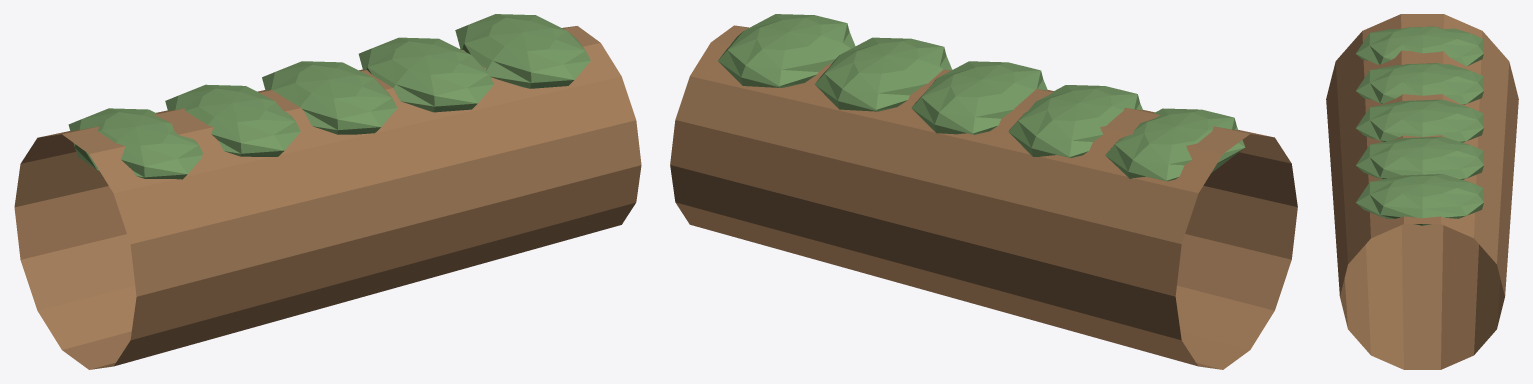
Rendered from log.gltf.
3 renders of one model, left to right at view 1: azimuth 30°, elevation 25°; view 2: azimuth 150°, elevation 25°; view 3: azimuth 270°, elevation 25°, orthographic. The views are drawn at different scales.
Parts seen in each view (by area): view 1: log; view 2: log; view 3: log.
Boxes of the visible parts, box(x1,y1,x2,y2) form: log: box(14, 14, 641, 369); log: box(670, 14, 1297, 369); log: box(1326, 14, 1518, 369).
Bounding box in the file's own units: 1.7 × 0.6912 × 0.7.
